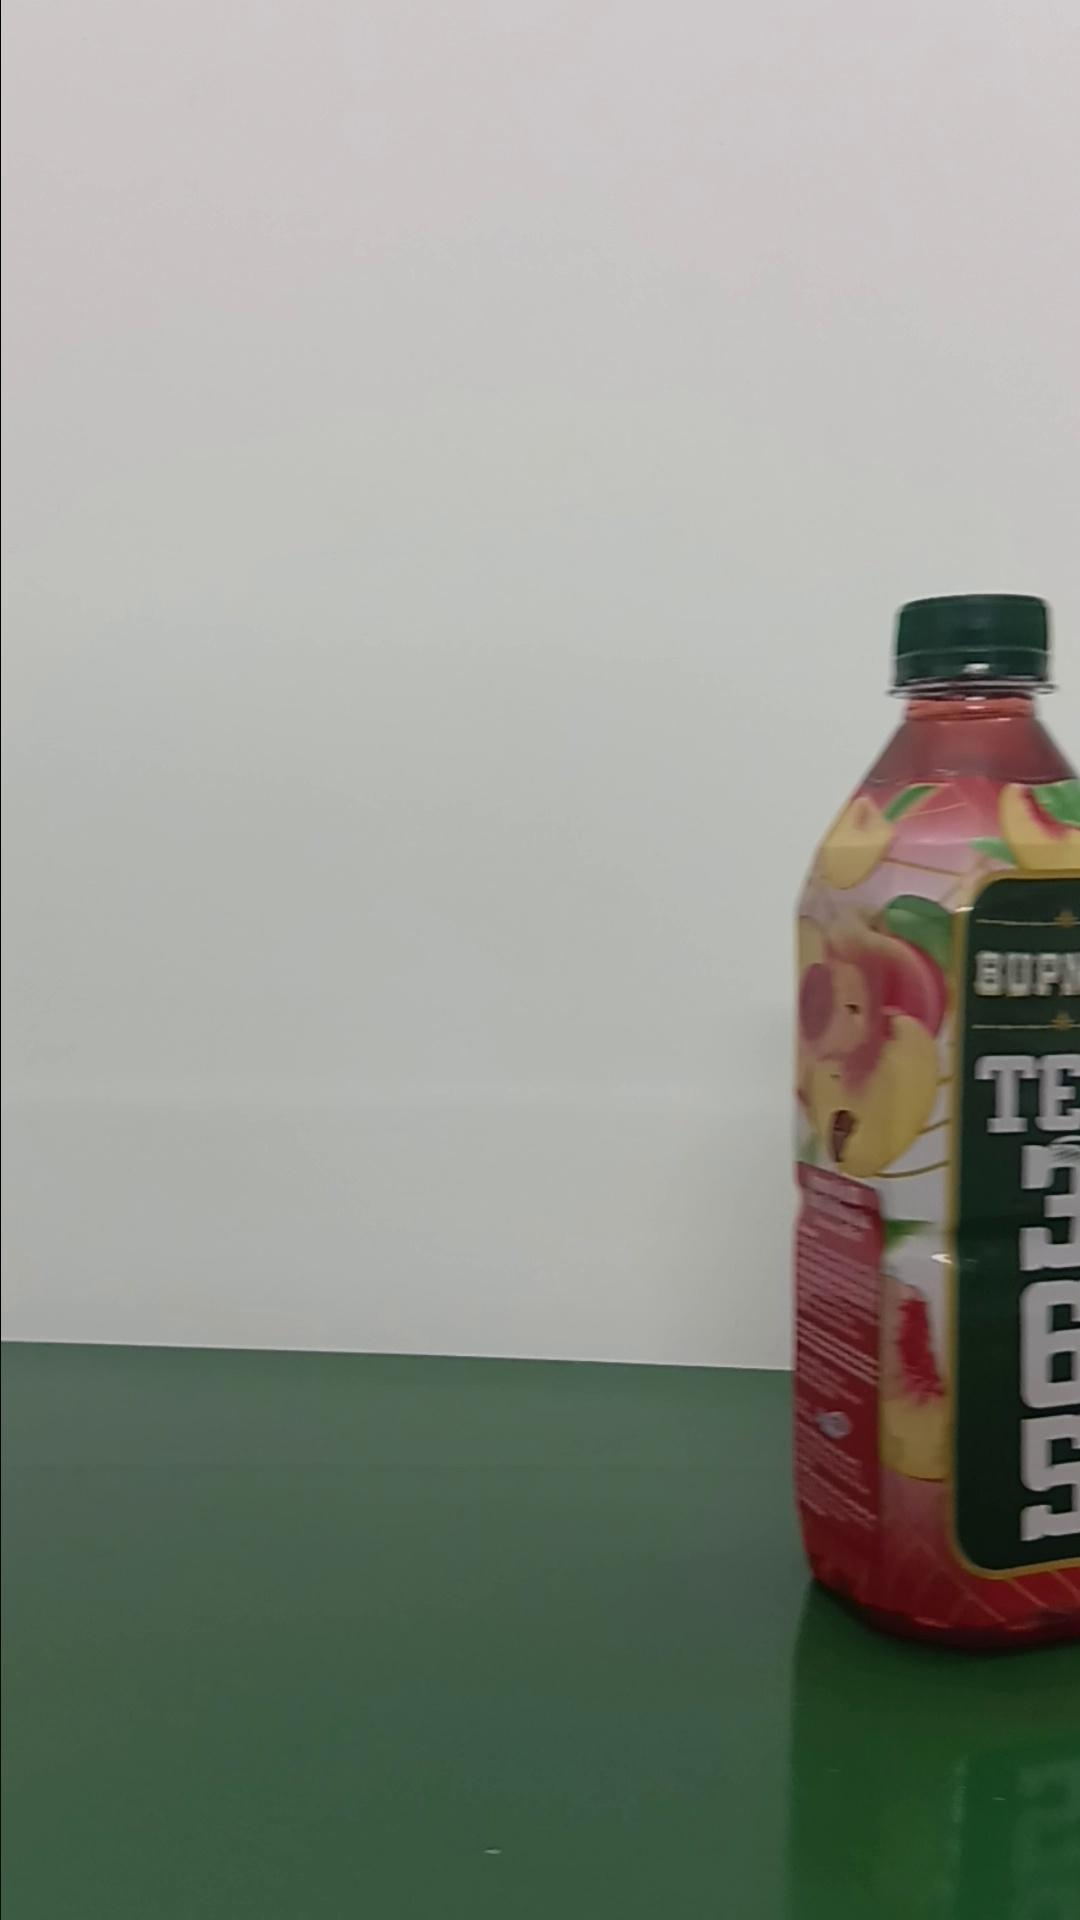loi rach va lap chai: (787, 585, 1080, 1646)
